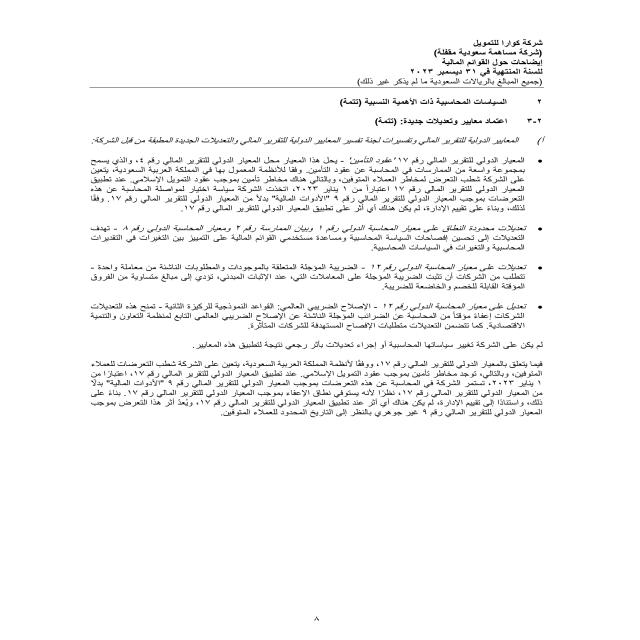notes: (428, 56, 547, 65)
text: (66, 97, 552, 432)
